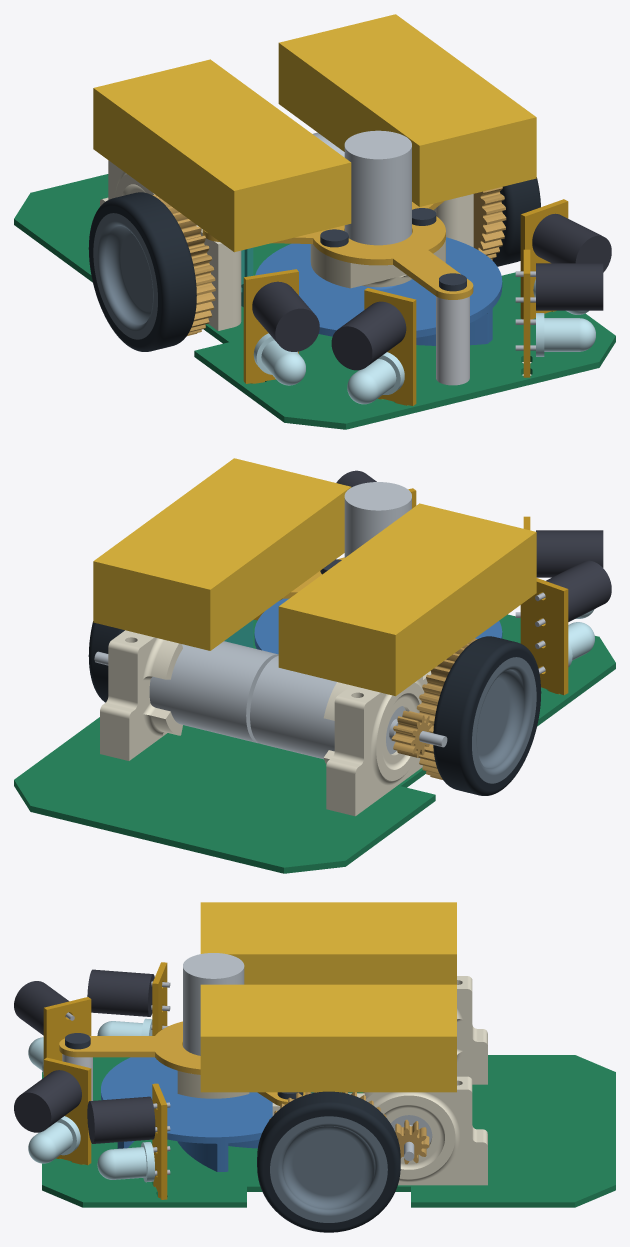
File: assembly-a11.glb
3 views of the same model, one above another, from view 1: azimuth 30°, elevation 25°; view 2: azimuth 150°, elevation 25°; view 3: azimuth 270°, elevation 25° (orthographic). The views are drawn at different scales.
Parts seen in each view (by area): view 1: 064_battery, 065_battery, 063_pcb, 062_fan, 003_tire, 060_fan_motor, 002_wheel, upper_plate, 027_mount, side_left_ir_receiver, side_right_ir_receiver, front_left_ir_receiver (+14 smaller); view 2: 063_pcb, 064_battery, 065_battery, 027_mount, 030_motor, 003_tire, 059_mount, 000_motor, 002_wheel, front_left_pcb, 060_fan_motor, side_left_ir_receiver (+6 smaller); view 3: 063_pcb, 065_battery, 064_battery, 032_wheel, 062_fan, 059_mount, 033_tire, upper_plate, 060_fan_motor, front_right_ir_receiver, side_right_ir_receiver, front_left_ir_receiver (+12 smaller).
Boxes of the visible parts, x1=… form: 064_battery: x1=93, y1=59, x2=351, y2=252; 065_battery: x1=278, y1=14, x2=536, y2=206; 063_pcb: x1=14, y1=174, x2=615, y2=429; 062_fan: x1=255, y1=237, x2=502, y2=345; 003_tire: x1=88, y1=192, x2=196, y2=351; 060_fan_motor: x1=344, y1=130, x2=411, y2=245; 002_wheel: x1=93, y1=213, x2=157, y2=339; upper_plate: x1=202, y1=201, x2=473, y2=299; 027_mount: x1=100, y1=160, x2=241, y2=330; side_left_ir_receiver: x1=331, y1=301, x2=406, y2=370; side_right_ir_receiver: x1=536, y1=263, x2=603, y2=310; front_left_ir_receiver: x1=252, y1=281, x2=319, y2=351; 063_pcb: x1=14, y1=614, x2=615, y2=873; 064_battery: x1=278, y1=503, x2=536, y2=696; 065_battery: x1=93, y1=458, x2=351, y2=650; 027_mount: x1=323, y1=671, x2=431, y2=816; 030_motor: x1=94, y1=641, x2=278, y2=743; 003_tire: x1=433, y1=636, x2=541, y2=795; 059_mount: x1=100, y1=630, x2=182, y2=760; 000_motor: x1=250, y1=656, x2=447, y2=759; 002_wheel: x1=472, y1=657, x2=536, y2=783; front_left_pcb: x1=520, y1=578, x2=568, y2=695; 060_fan_motor: x1=344, y1=482, x2=411, y2=557; side_left_ir_receiver: x1=536, y1=530, x2=603, y2=577; 063_pcb: x1=42, y1=1055, x2=615, y2=1207; 065_battery: x1=200, y1=984, x2=456, y2=1092; 064_battery: x1=200, y1=902, x2=456, y2=984; 032_wheel: x1=270, y1=1116, x2=387, y2=1222; 062_fan: x1=101, y1=1057, x2=272, y2=1171; 059_mount: x1=272, y1=1076, x2=487, y2=1185; 033_tire: x1=257, y1=1091, x2=400, y2=1232; upper_plate: x1=59, y1=1021, x2=305, y2=1105; 060_fan_motor: x1=183, y1=953, x2=244, y2=1055; front_right_ir_receiver: x1=87, y1=1096, x2=155, y2=1143; side_right_ir_receiver: x1=14, y1=1070, x2=81, y2=1132; front_left_ir_receiver: x1=87, y1=969, x2=154, y2=1016.
Size of the model in its own units: 38.8 by 19.88 by 58.72.
